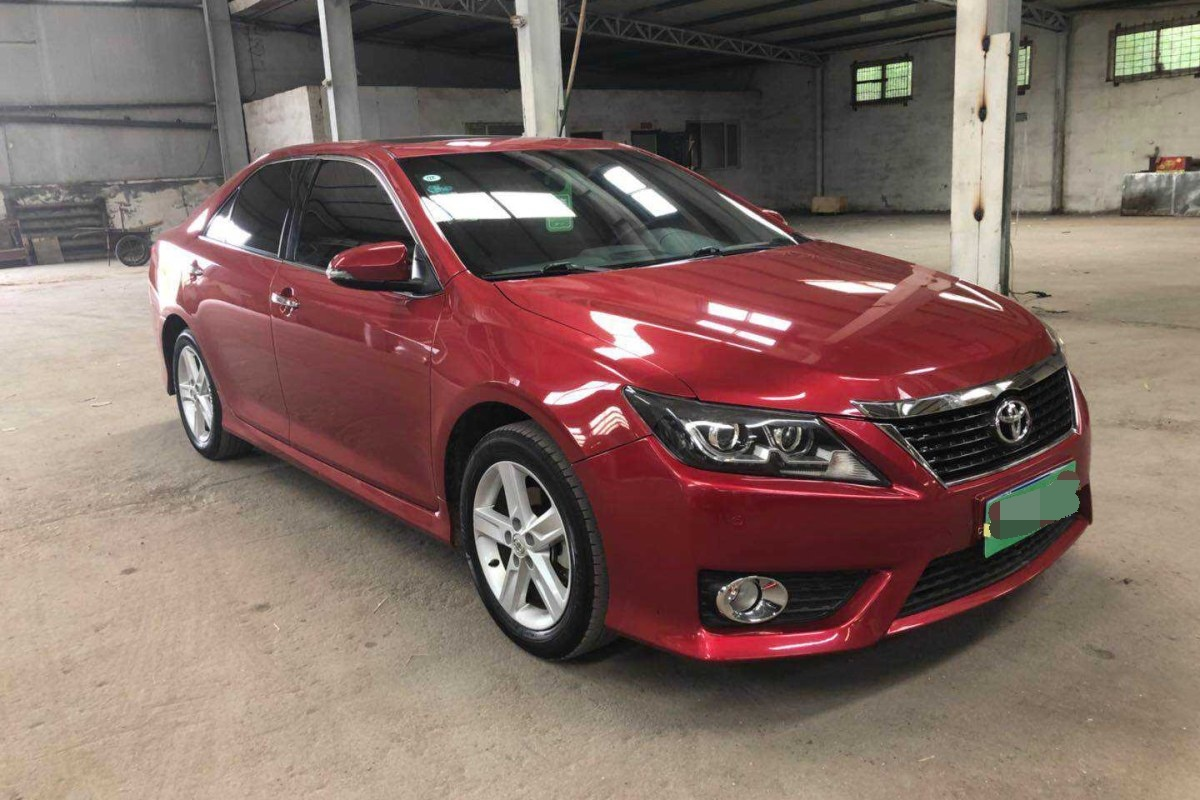family sedan: (147, 101, 1128, 670)
